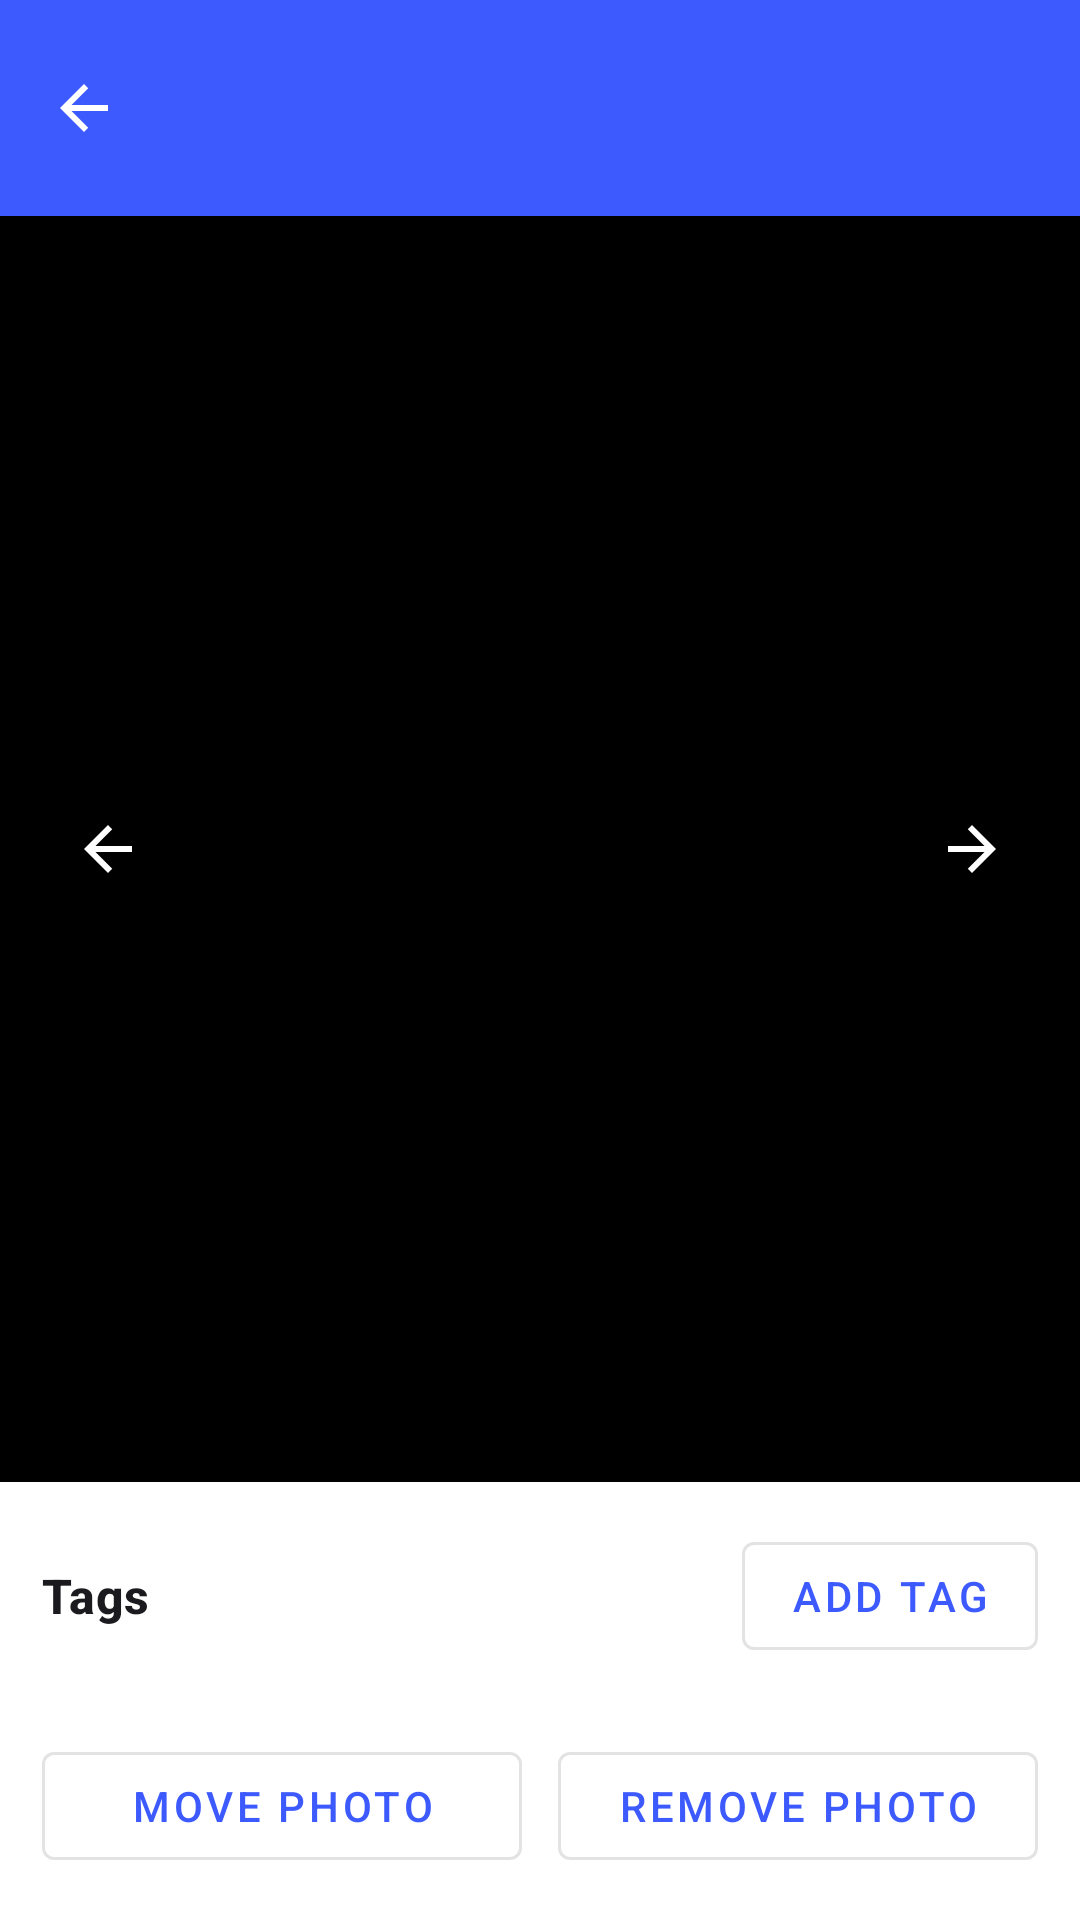

Icon bounding boxes for this 1080x1920 phone screenshot, format bbox=(x1, y1, x2, y2):
arrow back: bbox=(60, 84, 108, 132)
Next: bbox=(948, 825, 996, 873)
Previous: bbox=(84, 825, 132, 873)
